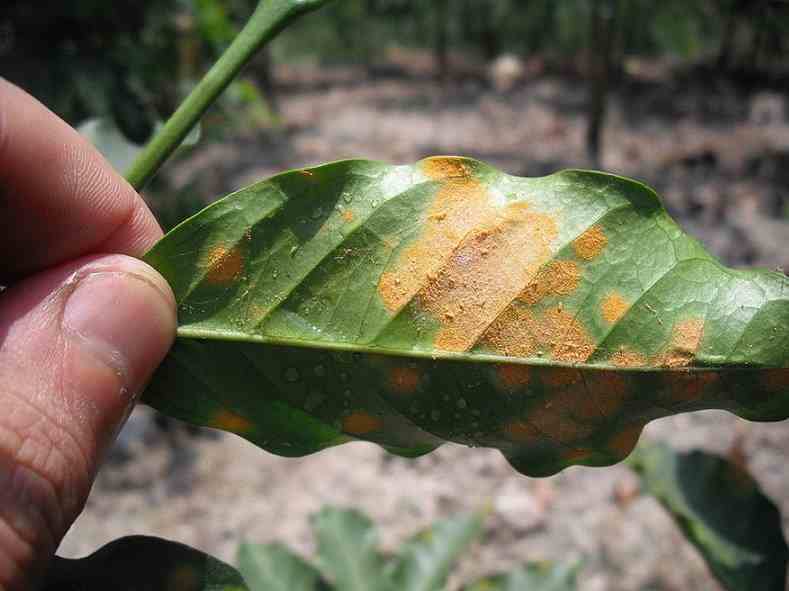roya: (199, 199, 730, 445)
